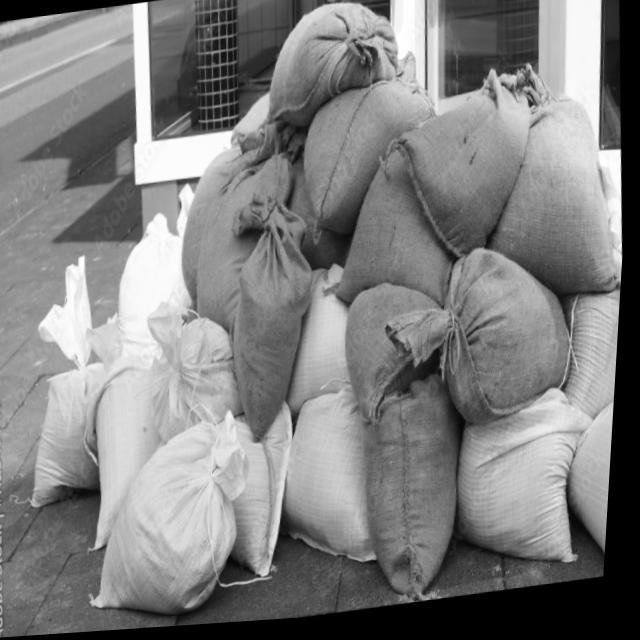sack: (473, 55, 634, 316), (379, 240, 584, 443), (86, 419, 267, 626), (384, 67, 544, 274), (293, 51, 447, 246), (452, 390, 606, 584), (221, 188, 333, 449), (357, 375, 478, 610), (170, 93, 283, 343), (21, 252, 123, 510), (326, 143, 462, 326), (78, 311, 176, 552), (277, 382, 394, 577), (342, 279, 464, 428), (262, 0, 404, 125), (145, 285, 251, 442), (224, 401, 309, 587), (281, 263, 363, 430), (114, 211, 202, 355), (562, 400, 620, 586), (561, 293, 625, 428)
